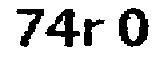0: (113, 3, 150, 51)
4: (44, 7, 81, 50)
7: (9, 6, 45, 49)
r: (83, 17, 108, 50)
